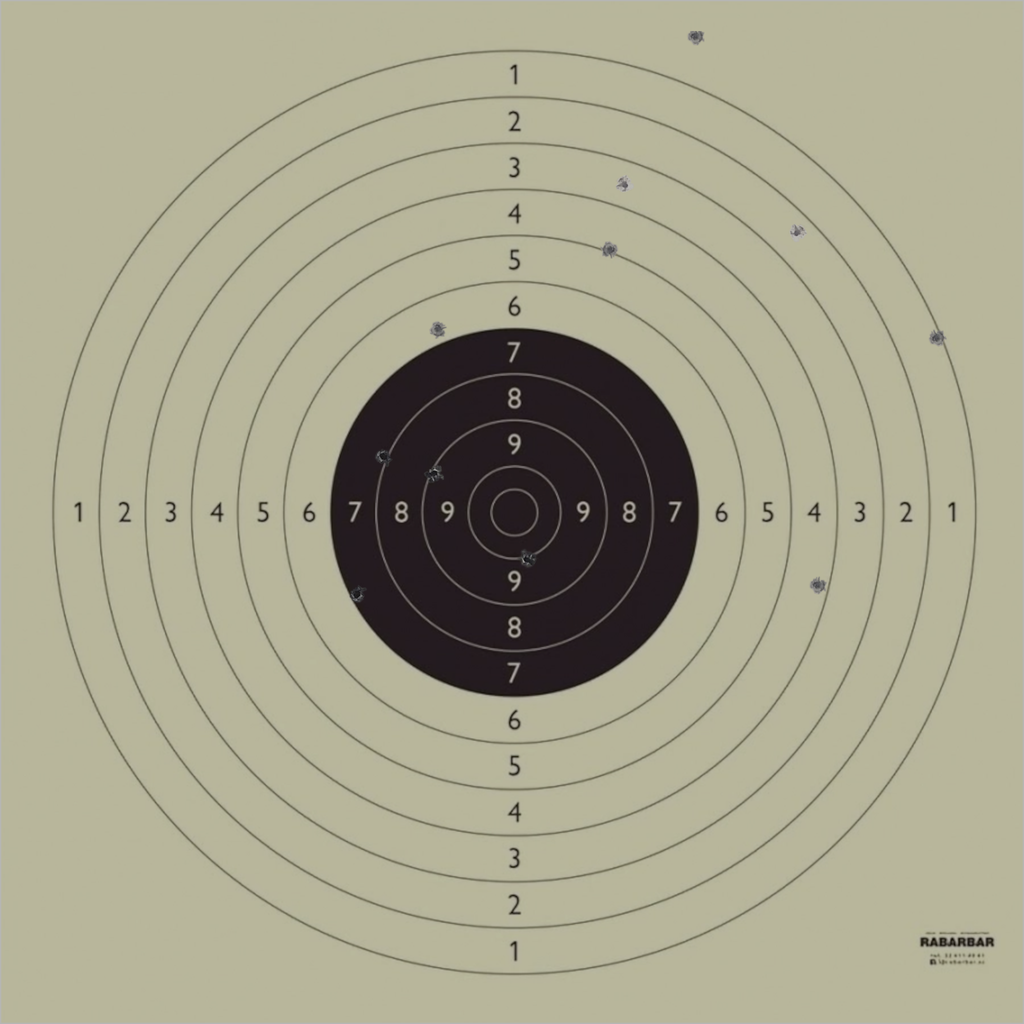0 punktow: (686, 27, 705, 46)
1 punkt: (927, 329, 946, 347)
10 punktow: (518, 550, 536, 569)
2 punkty: (788, 223, 806, 242)
3 punkty: (615, 176, 634, 194)
4 punkty: (808, 576, 827, 594)
5 punktow: (601, 241, 619, 259)
6 punktow: (429, 320, 447, 338)
7 punktow: (348, 585, 367, 604)
8 punktow: (374, 448, 393, 466)
9 punktow: (424, 465, 443, 483)
